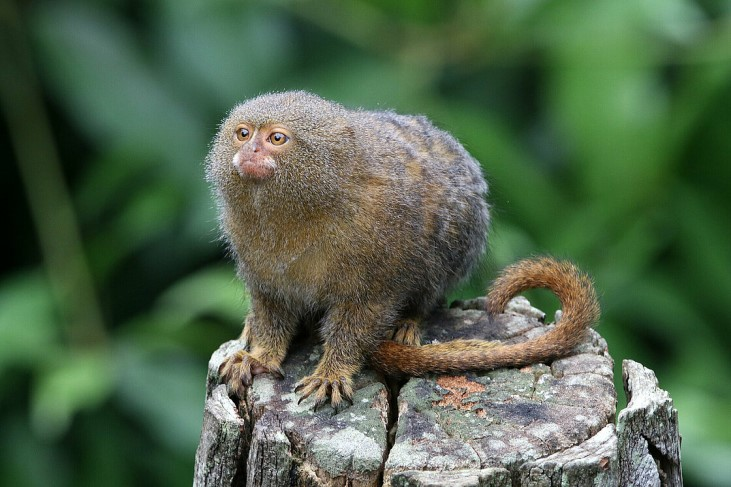PygmyMarmoset: (175, 83, 603, 397)
